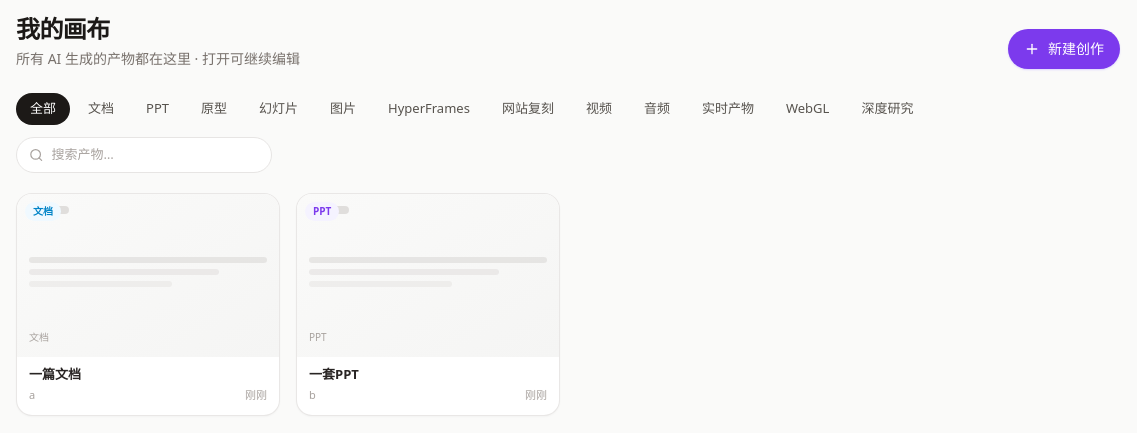
Scenario: 画布产物墙 ArtifactWall › 类型筛选只显示对应产物
Click the button "PPT" at x=158, y=109, box [132, 93, 183, 124]
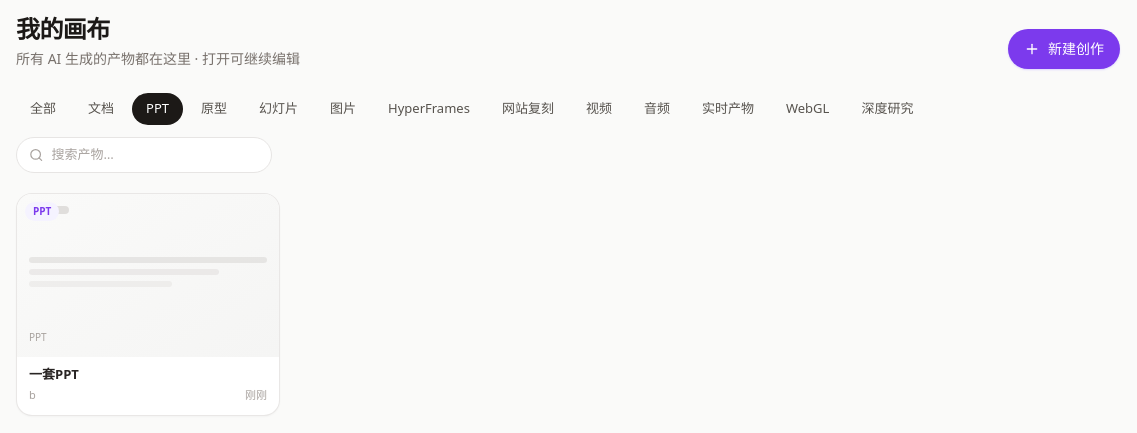
expect the text "一套PPT" is shown: met, box [29, 365, 79, 383]
expect the button "一篇文档" is gone: met
